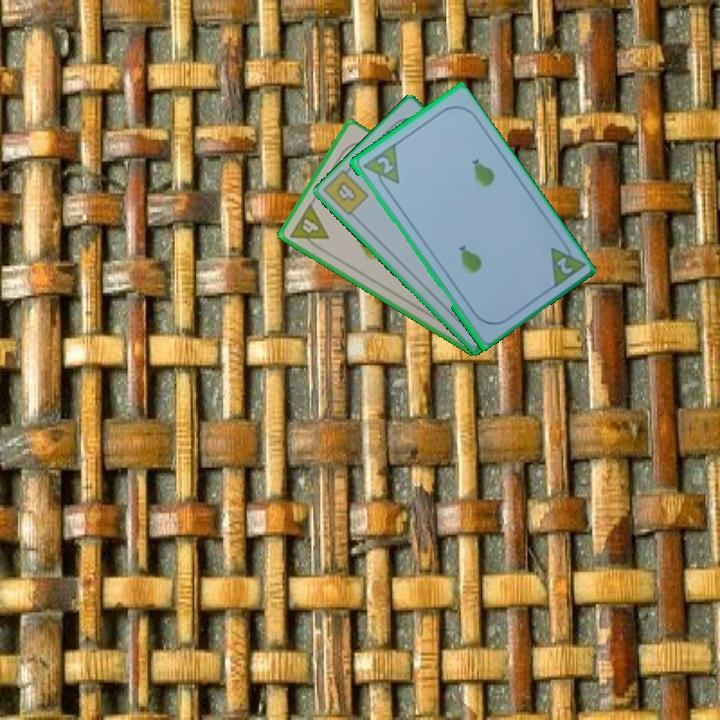2p: (373, 153, 396, 177), (552, 253, 575, 277)
4b: (332, 178, 360, 205)
4p: (286, 200, 332, 254)
